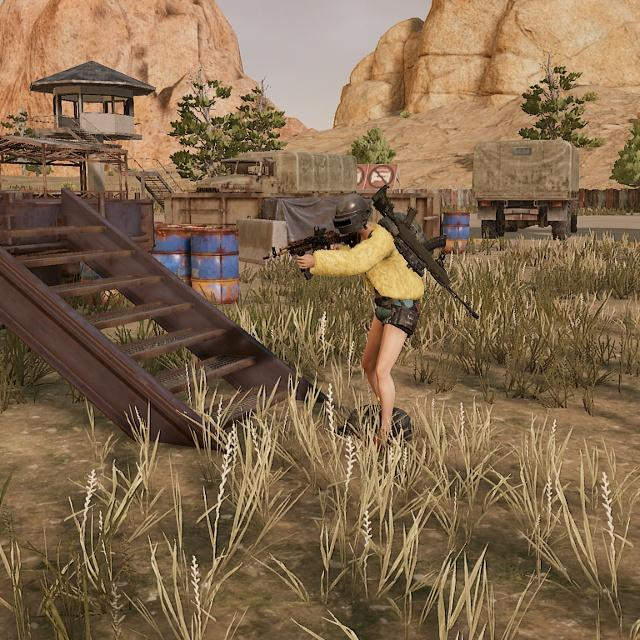head: (331, 193, 377, 242)
people: (323, 192, 426, 461)
